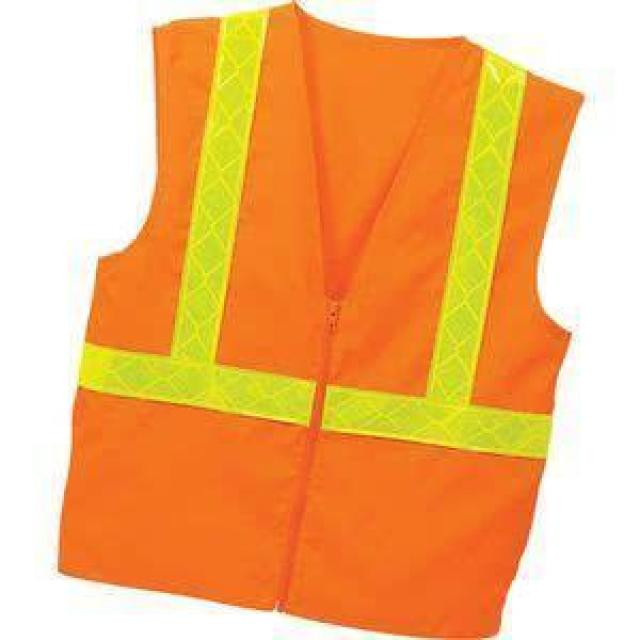Vest: (55, 11, 582, 638)
